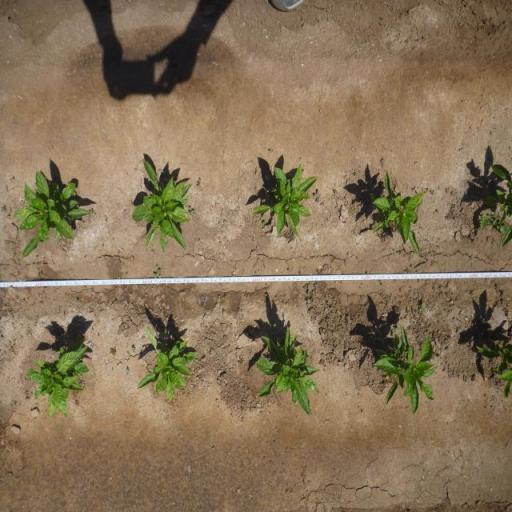plant: (13, 169, 90, 261), (252, 324, 322, 419), (374, 323, 443, 415), (131, 156, 189, 254), (24, 336, 88, 420), (251, 162, 318, 240), (368, 167, 428, 254), (136, 324, 198, 404), (475, 337, 512, 398), (479, 161, 512, 216)
weed: (478, 214, 508, 235), (314, 188, 322, 204), (153, 264, 162, 278), (108, 346, 118, 356), (188, 206, 198, 216), (390, 327, 400, 337), (418, 302, 426, 312), (36, 267, 44, 276), (9, 175, 17, 183), (237, 357, 245, 365), (118, 258, 125, 267), (0, 205, 6, 214), (130, 346, 136, 353), (196, 179, 202, 186), (306, 290, 313, 296), (429, 189, 436, 195), (262, 220, 267, 228), (405, 269, 412, 274), (126, 368, 130, 376), (447, 212, 451, 220), (334, 188, 338, 195), (224, 294, 228, 300), (268, 148, 274, 152), (316, 281, 320, 286), (354, 172, 358, 176)
